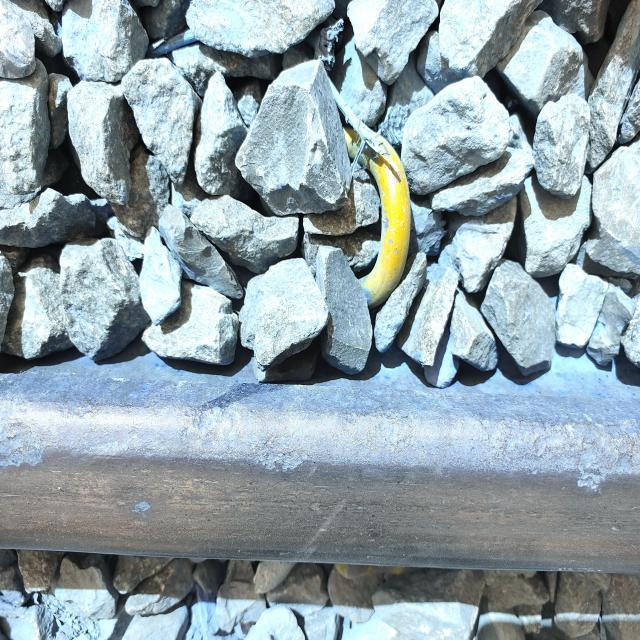head_checks_low: (2, 412, 46, 475), (570, 458, 638, 496), (130, 496, 158, 518)
